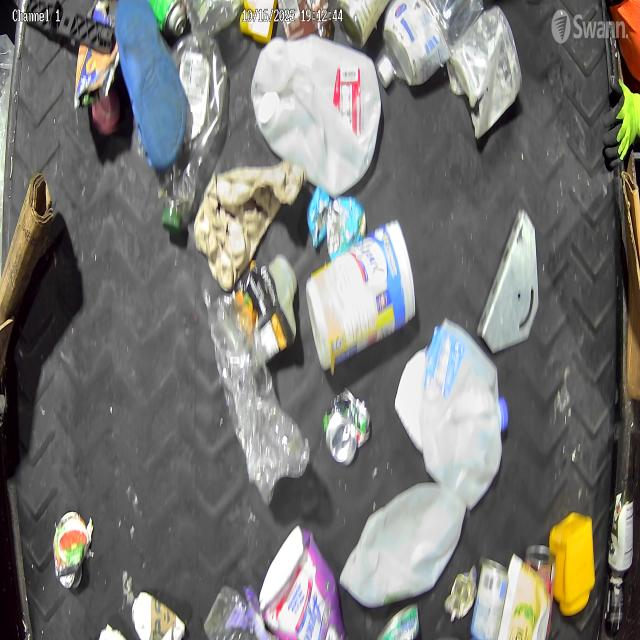can: (319, 387, 372, 467), (51, 506, 94, 592), (470, 554, 509, 640), (524, 542, 554, 638), (607, 486, 635, 572), (150, 0, 189, 40), (604, 572, 626, 634)
milk_jug: (251, 34, 384, 202), (422, 316, 512, 516), (336, 480, 468, 610)
non_white_jug: (256, 523, 347, 640)
plastic_bottle: (158, 35, 230, 231), (376, 0, 485, 92)
